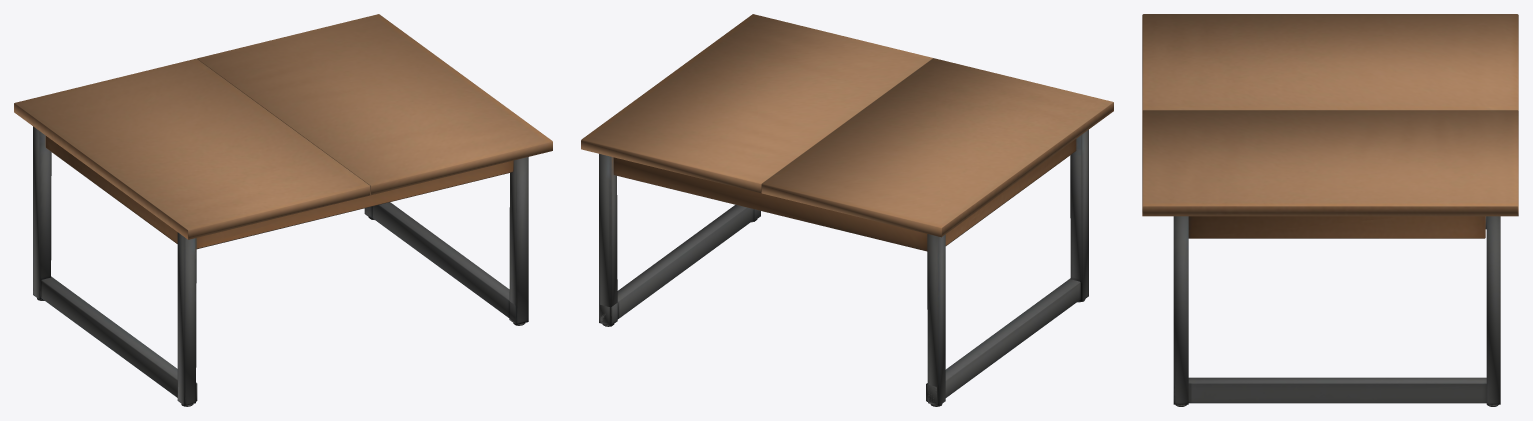
Rendered from ENV_FixedDesk_C_v001.fbx.
3 renders of one model, left to right at view 1: azimuth 30°, elevation 25°; view 2: azimuth 150°, elevation 25°; view 3: azimuth 270°, elevation 25°, orthographic. The views are drawn at different scales.
Parts seen in each view (by area): view 1: tripo_node_6b8fc653-15c6-41ec-a4d1-932576933542; view 2: tripo_node_6b8fc653-15c6-41ec-a4d1-932576933542; view 3: tripo_node_6b8fc653-15c6-41ec-a4d1-932576933542.
Boxes of the visible parts, <box> form: tripo_node_6b8fc653-15c6-41ec-a4d1-932576933542: <box>14,14,552,406</box>; tripo_node_6b8fc653-15c6-41ec-a4d1-932576933542: <box>581,14,1113,406</box>; tripo_node_6b8fc653-15c6-41ec-a4d1-932576933542: <box>1142,14,1518,406</box>.
Bounding box in the file's own units: 99.8 × 50.2 × 82.62.
1 material, 1 textured.
